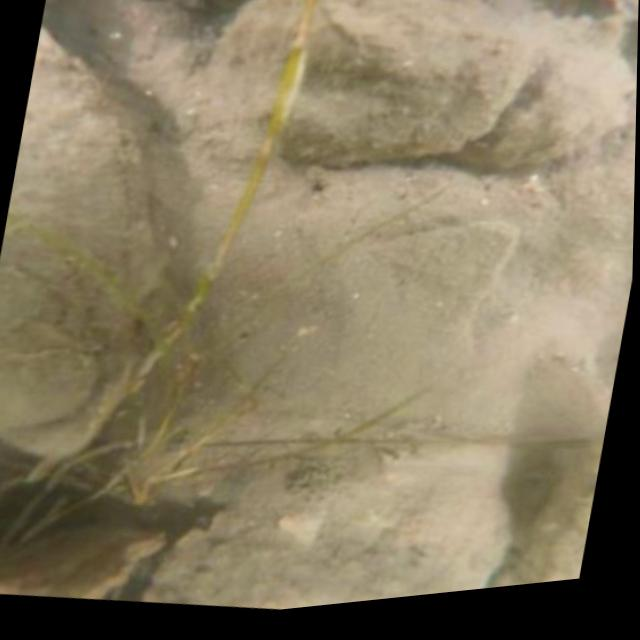Oyster-Closed: (0, 30, 156, 451), (502, 478, 596, 586)
Oyster-Indeterminate: (139, 432, 522, 606), (204, 0, 518, 157), (447, 8, 633, 171), (0, 520, 168, 599)
